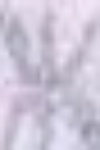ZH_RUS: (0, 0, 99, 149)
